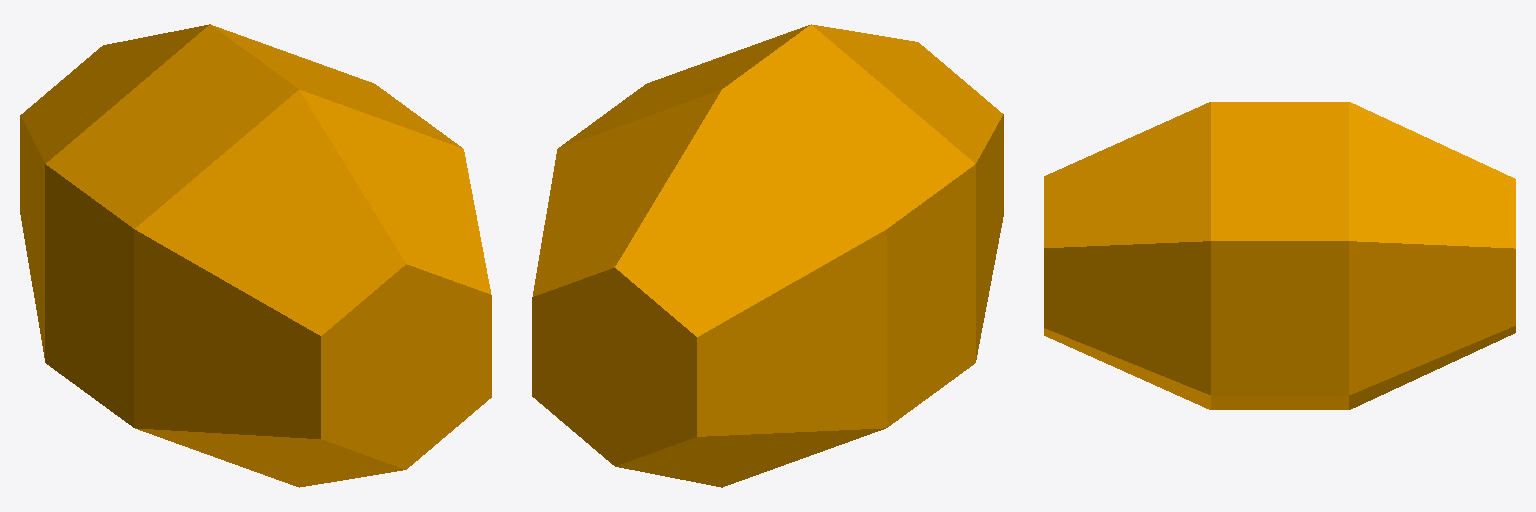
URDF robot description (peeled_potato):
<?xml version="1.0"?>
<robot name="peeled_potato">
  <link name="potato">
    <inertial>
        <origin rpy="0 0 0" xyz="0 0 0"/>
        <mass value="0.01"/>
        <inertia ixx="2e-5" ixy="0" ixz="0" iyy="2e-5" iyz="0" izz="2e-5"/>
    </inertial>
    <visual>
      <geometry>
        <mesh filename="peeled_potato.obj"/>
      </geometry>
    </visual>
    <collision>
      <geometry>
        <mesh filename="peeled_potato.obj"/>
      </geometry>
    </collision>
  </link>
</robot>

--- What the picture shows (computed from the rendered views, not written in the file) ---
Views: 3 orthographic renders of the robot side by side, from view 1: azimuth 30°, elevation 25°; view 2: azimuth 150°, elevation 25°; view 3: azimuth 270°, elevation 25°.
Model peeled_potato with 1 links and 0 joints (none), rooted at potato, posed all joints at 0.
Links seen in each view (by area): view 1: potato; view 2: potato; view 3: potato.
Boxes of the visible links, x1=… form: potato: x1=20, y1=24, x2=491, y2=487; potato: x1=532, y1=24, x2=1003, y2=487; potato: x1=1044, y1=102, x2=1515, y2=409.
Size in the robot's own frame: 0.1502 by 0.2396 by 0.1734 metres.
Meshes: 1 distinct files referenced, 1 mesh visuals loaded (1 OBJ).
